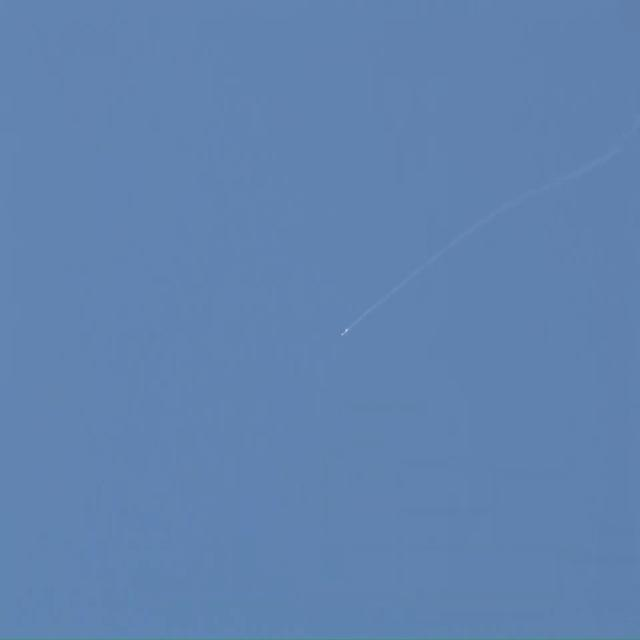Rocket: (341, 328, 349, 337)
